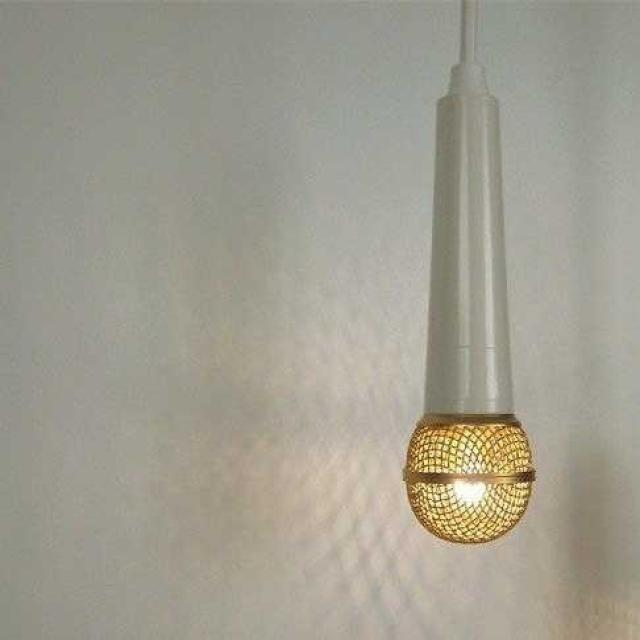microphone: (405, 4, 541, 547)
